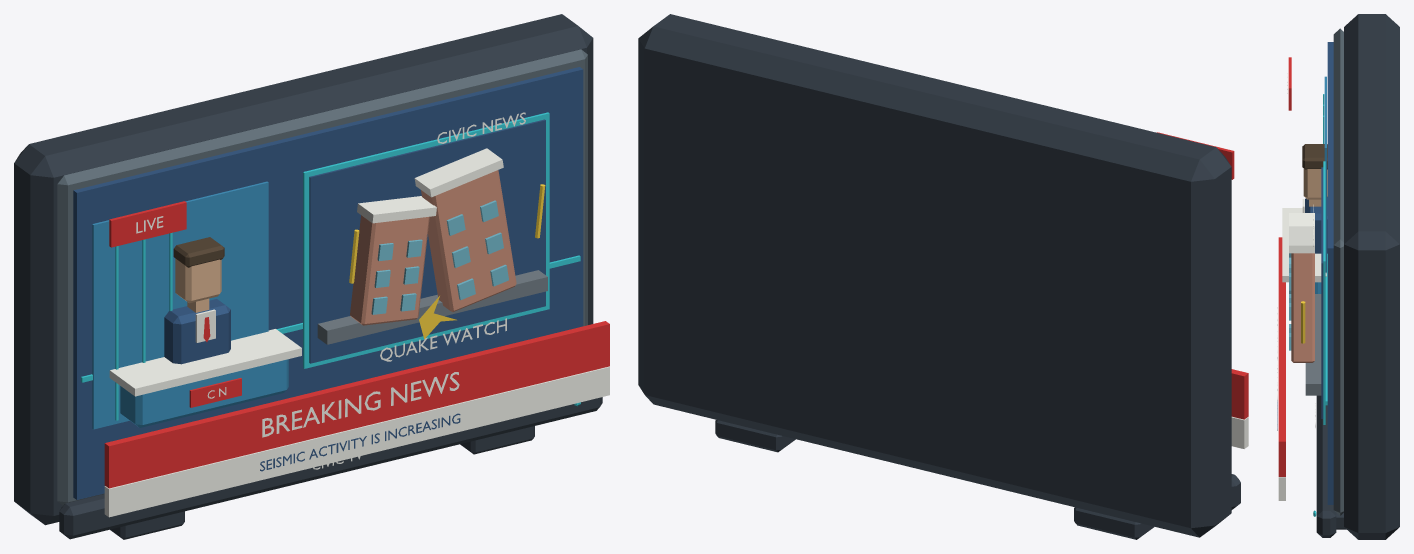
File: TV_News_Earthquake.fbx
3 renders of one model, left to right at view 1: azimuth 30°, elevation 25°; view 2: azimuth 150°, elevation 25°; view 3: azimuth 270°, elevation 25°, orthographic. The views are drawn at different scales.
Visible parts, largest first — view 1: Screen Background.014, TV Back Housing.014, Breaking Lower Third.014, Story Window.014, Studio Left Panel.014, Inner Screen Border.014, Hint Strip.014, Lower Bezel.014, Building Facade.010, Building Facade.009, Desk Top.014, Story Border.014 (+14 smaller); view 2: TV Back Housing.014, TV Foot.029, TV Foot.028, Breaking Lower Third.014; view 3: TV Back Housing.014, Inner Screen Border.014, Screen Background.014, Building Facade.010, Lower Bezel.014, Breaking Lower Third.014, Quake Ground.003, Desk Top.014, Story Border.014, Story Window.014, Roof Trim.010, Anchor Head.014 (+8 smaller).
Part boxes in pixels (<box>): Screen Background.014: <box>73,67,583,499</box>; TV Back Housing.014: <box>14,14,593,525</box>; Breaking Lower Third.014: <box>104,321,609,488</box>; Story Window.014: <box>309,119,545,363</box>; Studio Left Panel.014: <box>92,181,268,429</box>; Inner Screen Border.014: <box>57,49,587,505</box>; Hint Strip.014: <box>104,366,609,517</box>; Lower Bezel.014: <box>59,397,602,539</box>; Building Facade.010: <box>421,170,516,311</box>; Building Facade.009: <box>350,215,429,325</box>; Desk Top.014: <box>109,329,301,396</box>; Story Border.014: <box>303,112,549,368</box>; TV Back Housing.014: <box>638,14,1231,537</box>; TV Foot.029: <box>715,420,795,452</box>; TV Foot.028: <box>1074,507,1154,539</box>; Breaking Lower Third.014: <box>1231,369,1248,419</box>; TV Back Housing.014: <box>1344,14,1399,539</box>; Inner Screen Border.014: <box>1333,28,1343,515</box>; Screen Background.014: <box>1327,42,1333,504</box>; Building Facade.010: <box>1291,253,1314,362</box>; Lower Bezel.014: <box>1316,395,1336,537</box>; Breaking Lower Third.014: <box>1278,237,1285,476</box>; Quake Ground.003: <box>1305,294,1321,395</box>; Desk Top.014: <box>1282,208,1326,282</box>; Story Border.014: <box>1323,161,1325,424</box>; Story Window.014: <box>1321,167,1323,418</box>; Roof Trim.010: <box>1289,226,1314,253</box>; Anchor Head.014: <box>1303,168,1327,199</box>.
Bounding box in the file's own units: 418 × 275 × 94.58.
